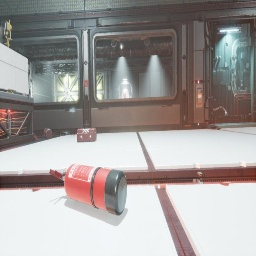FireAlarm ,: (85, 80, 88, 87)
FireExtinguisher ]: (49, 164, 127, 216), (34, 133, 38, 140), (64, 183, 64, 183), (34, 138, 35, 138)
FirstAidBox ,: (77, 124, 97, 142)
NitrogenTank ,: (44, 128, 52, 139)
SafetySwitchPanel ,: (195, 84, 203, 108)
